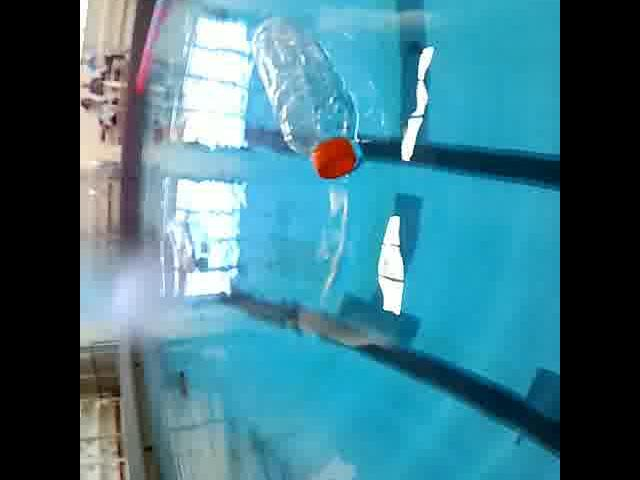Bottle: (243, 13, 369, 188)
